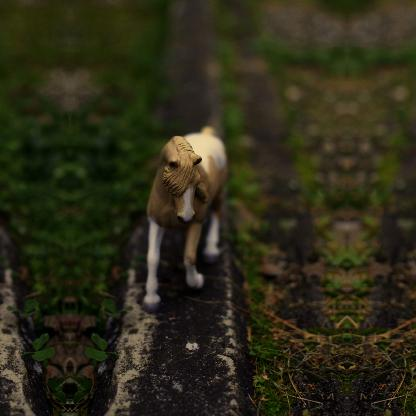Dog: (141, 126, 228, 314)
